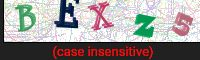5: (171, 9, 195, 38)
B: (12, 1, 40, 35)
E: (53, 1, 84, 31)
X: (85, 1, 114, 32)
z: (131, 9, 161, 38)
